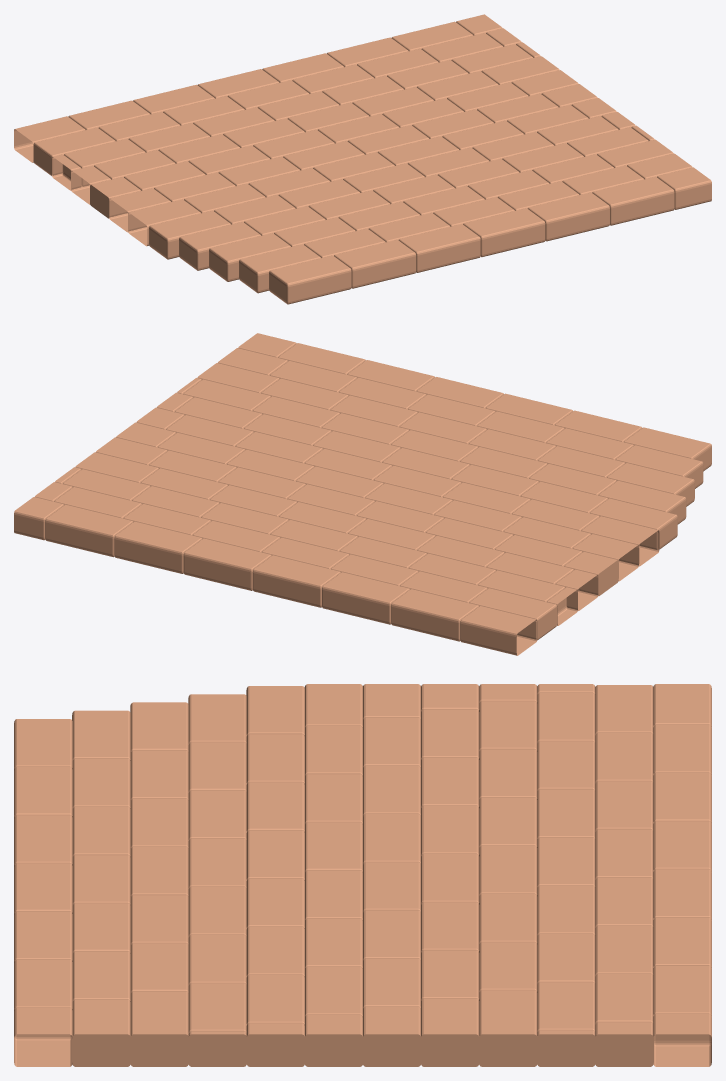
The model's file is GhostShop.fbx.
3 renders of one model, top to bottom at view 1: azimuth 30°, elevation 25°; view 2: azimuth 150°, elevation 25°; view 3: azimuth 270°, elevation 25°, orthographic. The views are drawn at different scales.
Visible parts, largest first — view 1: Cube.006; view 2: Cube.006; view 3: Cube.006.
Part boxes in pixels (x1,y1,x2,y2): Cube.006: [14, 14, 711, 304]; Cube.006: [14, 333, 711, 655]; Cube.006: [14, 684, 711, 1066].
Bounding box in the file's own units: 1213 × 52.32 × 1022.
